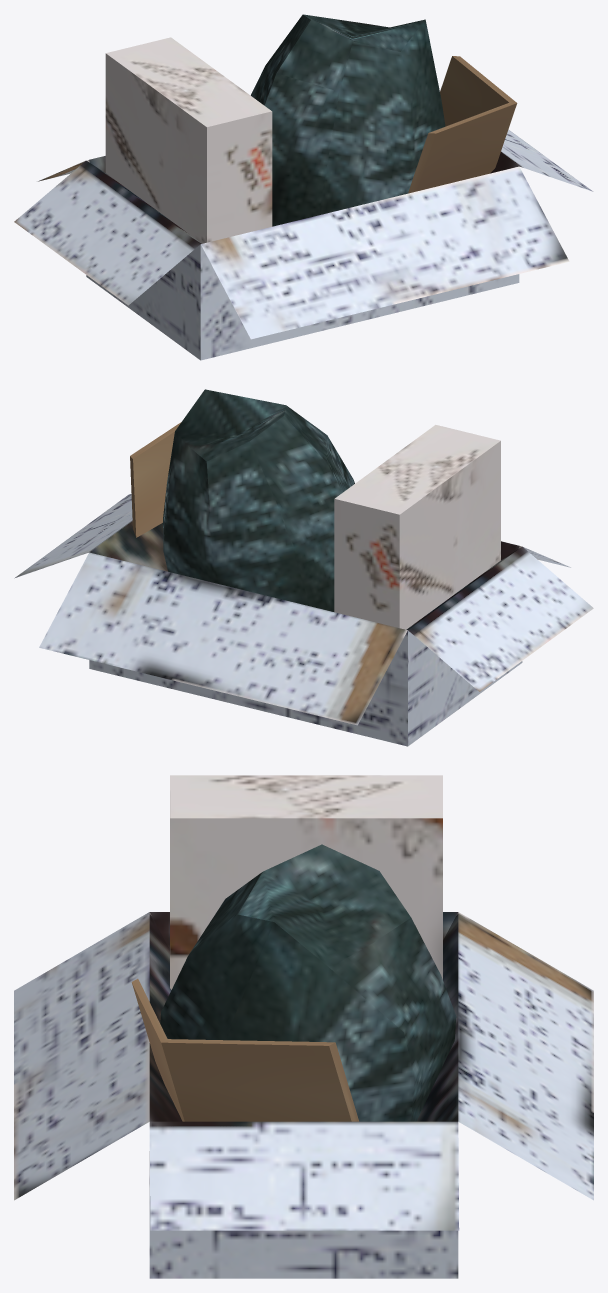
The model's file is TrashType2.glb.
3 views of the same model, one above another, from view 1: azimuth 30°, elevation 25°; view 2: azimuth 150°, elevation 25°; view 3: azimuth 270°, elevation 25° (orthographic). The views are drawn at different scales.
Visible parts, largest first — view 1: Trash_02; view 2: Trash_02; view 3: Trash_02.
Boxes of the visible parts, x1=… form: Trash_02: x1=14, y1=14, x2=593, y2=360; Trash_02: x1=14, y1=389, x2=593, y2=746; Trash_02: x1=14, y1=775, x2=593, y2=1278.
Size of the model in its own units: 1.91 by 0.9871 by 1.53.
Materials: 1 (1 with a texture image).
